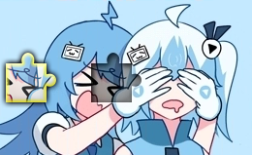gap: (91, 53, 142, 103)
